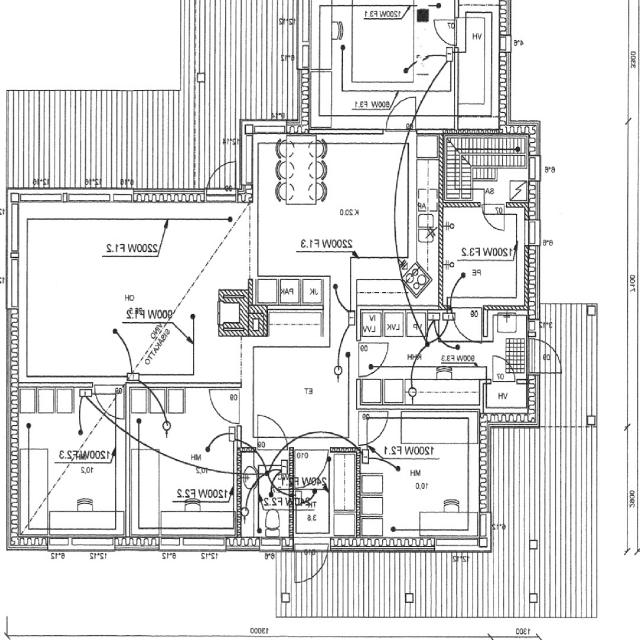door: (295, 538, 329, 591), (295, 447, 329, 491), (529, 339, 570, 374), (207, 154, 236, 202), (386, 94, 416, 134), (356, 343, 391, 377), (208, 389, 242, 424), (258, 413, 288, 452), (95, 382, 124, 422), (357, 412, 390, 446), (453, 306, 482, 344), (482, 202, 505, 233), (493, 354, 515, 384), (432, 20, 458, 45)
